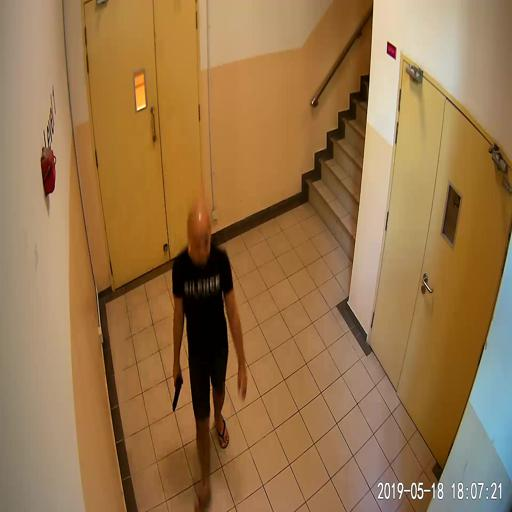pistol: (171, 365, 183, 411)
